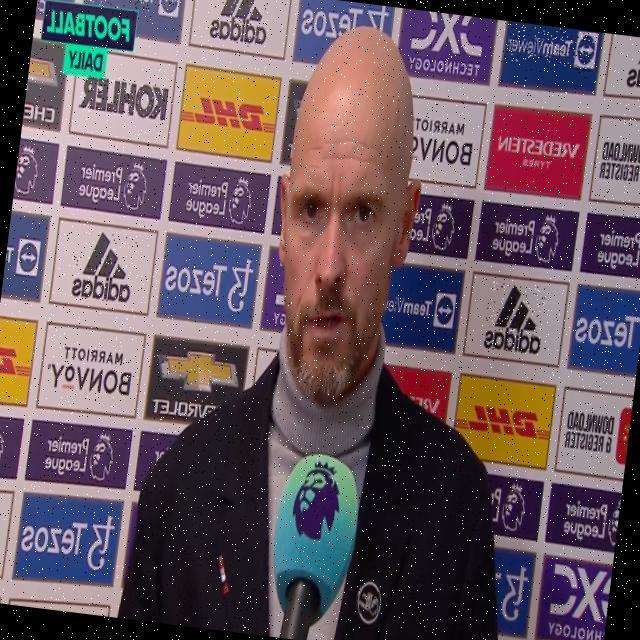Adidas: (69, 227, 138, 305), (482, 281, 547, 355), (206, 0, 271, 48)
Chevrolet: (150, 342, 241, 423)
Kohler: (78, 74, 168, 122)
TeamViewer: (505, 23, 597, 71), (86, 0, 180, 14)
